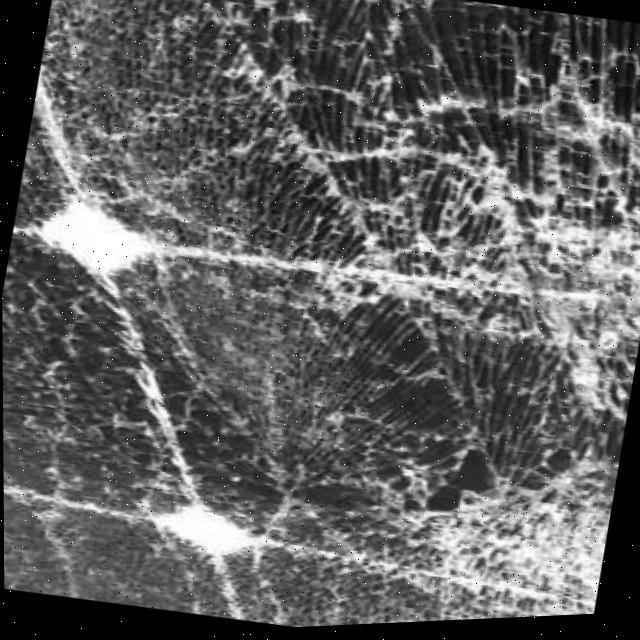Anomaly Solar Panel: (2, 0, 640, 630)
Structural Damage: (220, 0, 640, 444), (241, 402, 621, 630)
